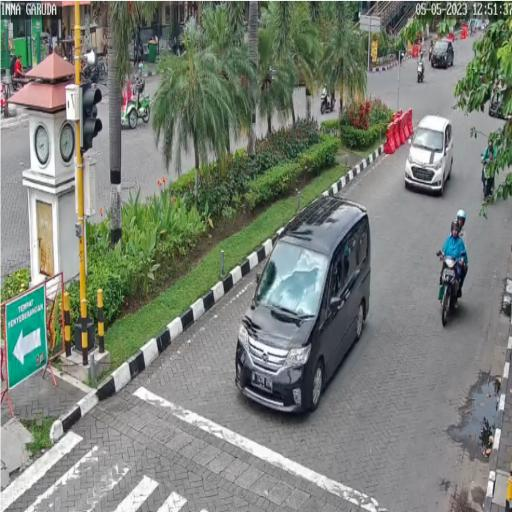mobil: (235, 194, 372, 421), (403, 112, 455, 200)
motor: (436, 248, 468, 332)
